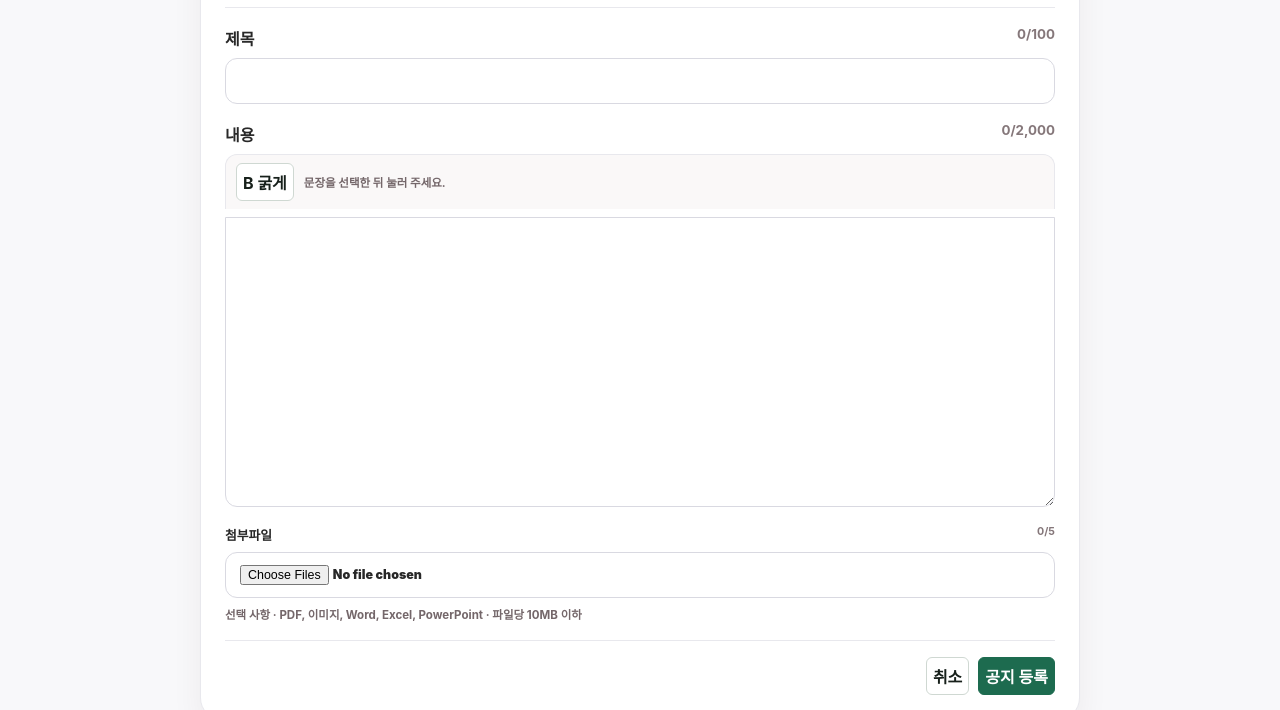
NoticeBoardPage › keeps empty fields focused and reports plain validation messages
(page scrolled)
Click the button "공지 등록" at (1017, 676), box [978,657,1055,695]
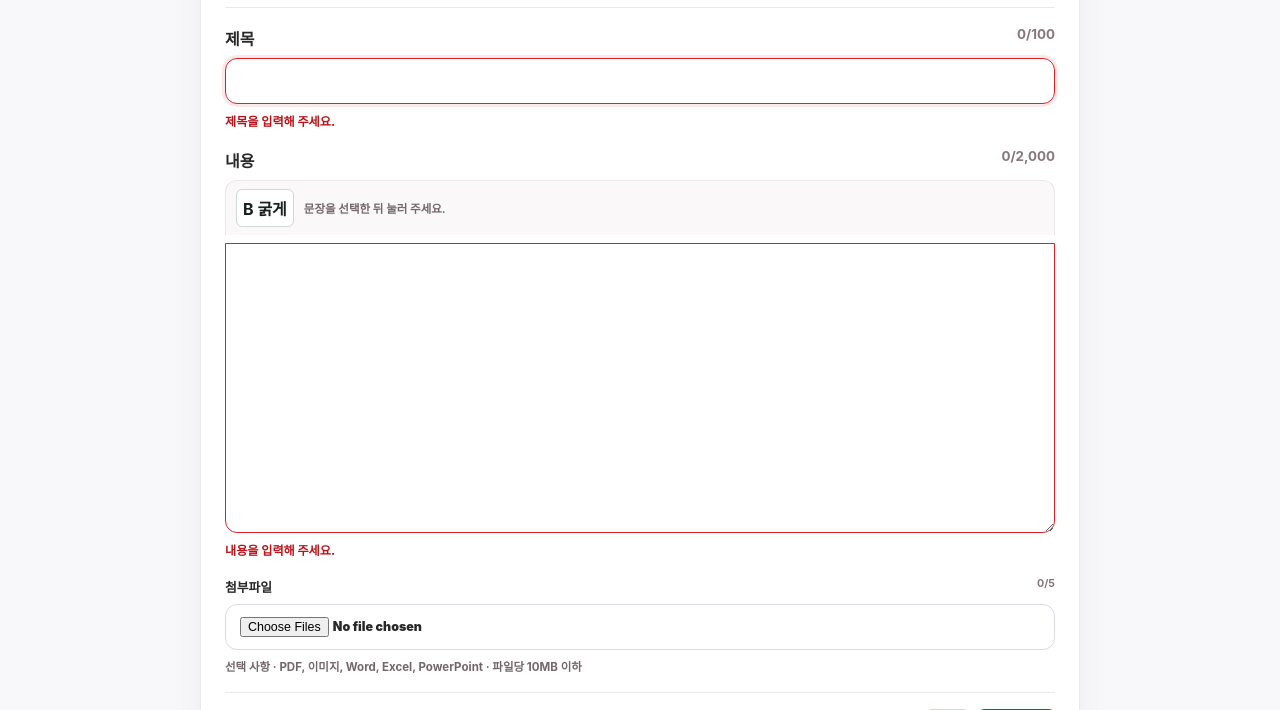
Expected: the text "제목을 입력해 주세요." is shown, [225,114,335,129]
Expected: the text "내용을 입력해 주세요." is shown, [225,543,335,558]
